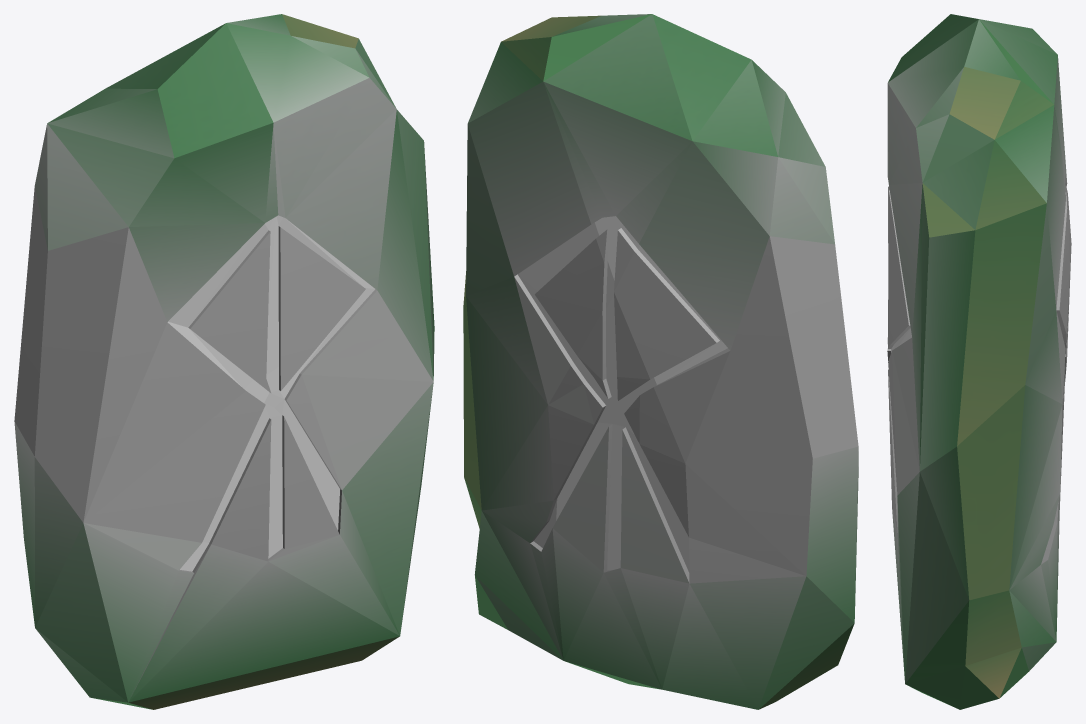
File: Runestone_Courage_01_Mossy.fbx
3 renders of one model, left to right at view 1: azimuth 30°, elevation 25°; view 2: azimuth 150°, elevation 25°; view 3: azimuth 270°, elevation 25°, orthographic. The views are drawn at different scales.
Visible parts, largest first — view 1: Runestone_Courage_Mossy; view 2: Runestone_Courage_Mossy; view 3: Runestone_Courage_Mossy.
Part boxes in pixels (x1,y1,x2,y2): Runestone_Courage_Mossy: (14, 14, 434, 709); Runestone_Courage_Mossy: (463, 14, 858, 709); Runestone_Courage_Mossy: (887, 14, 1071, 709).
Size of the model in its own units: 1.8 by 2.8 by 0.75.
